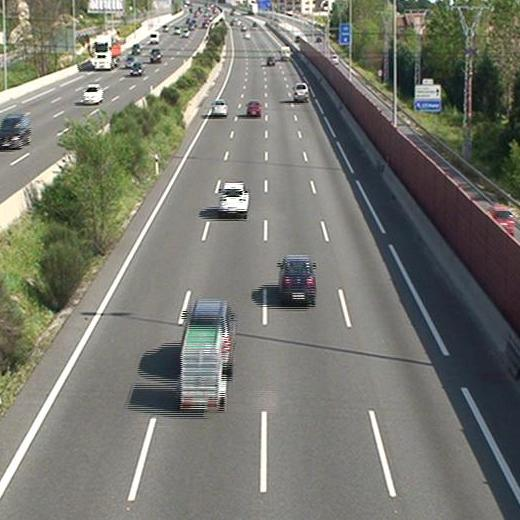car: (182, 302, 234, 370), (278, 258, 316, 304), (219, 182, 248, 218), (293, 83, 308, 102), (212, 100, 228, 116), (246, 101, 260, 117), (267, 56, 275, 66)
van: (280, 47, 290, 62)
